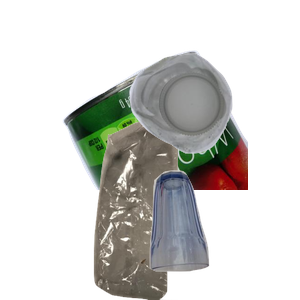glass: (147, 168, 300, 300)
metal: (60, 48, 300, 228)
plastic: (127, 51, 300, 197)
trash: (70, 120, 256, 300)
